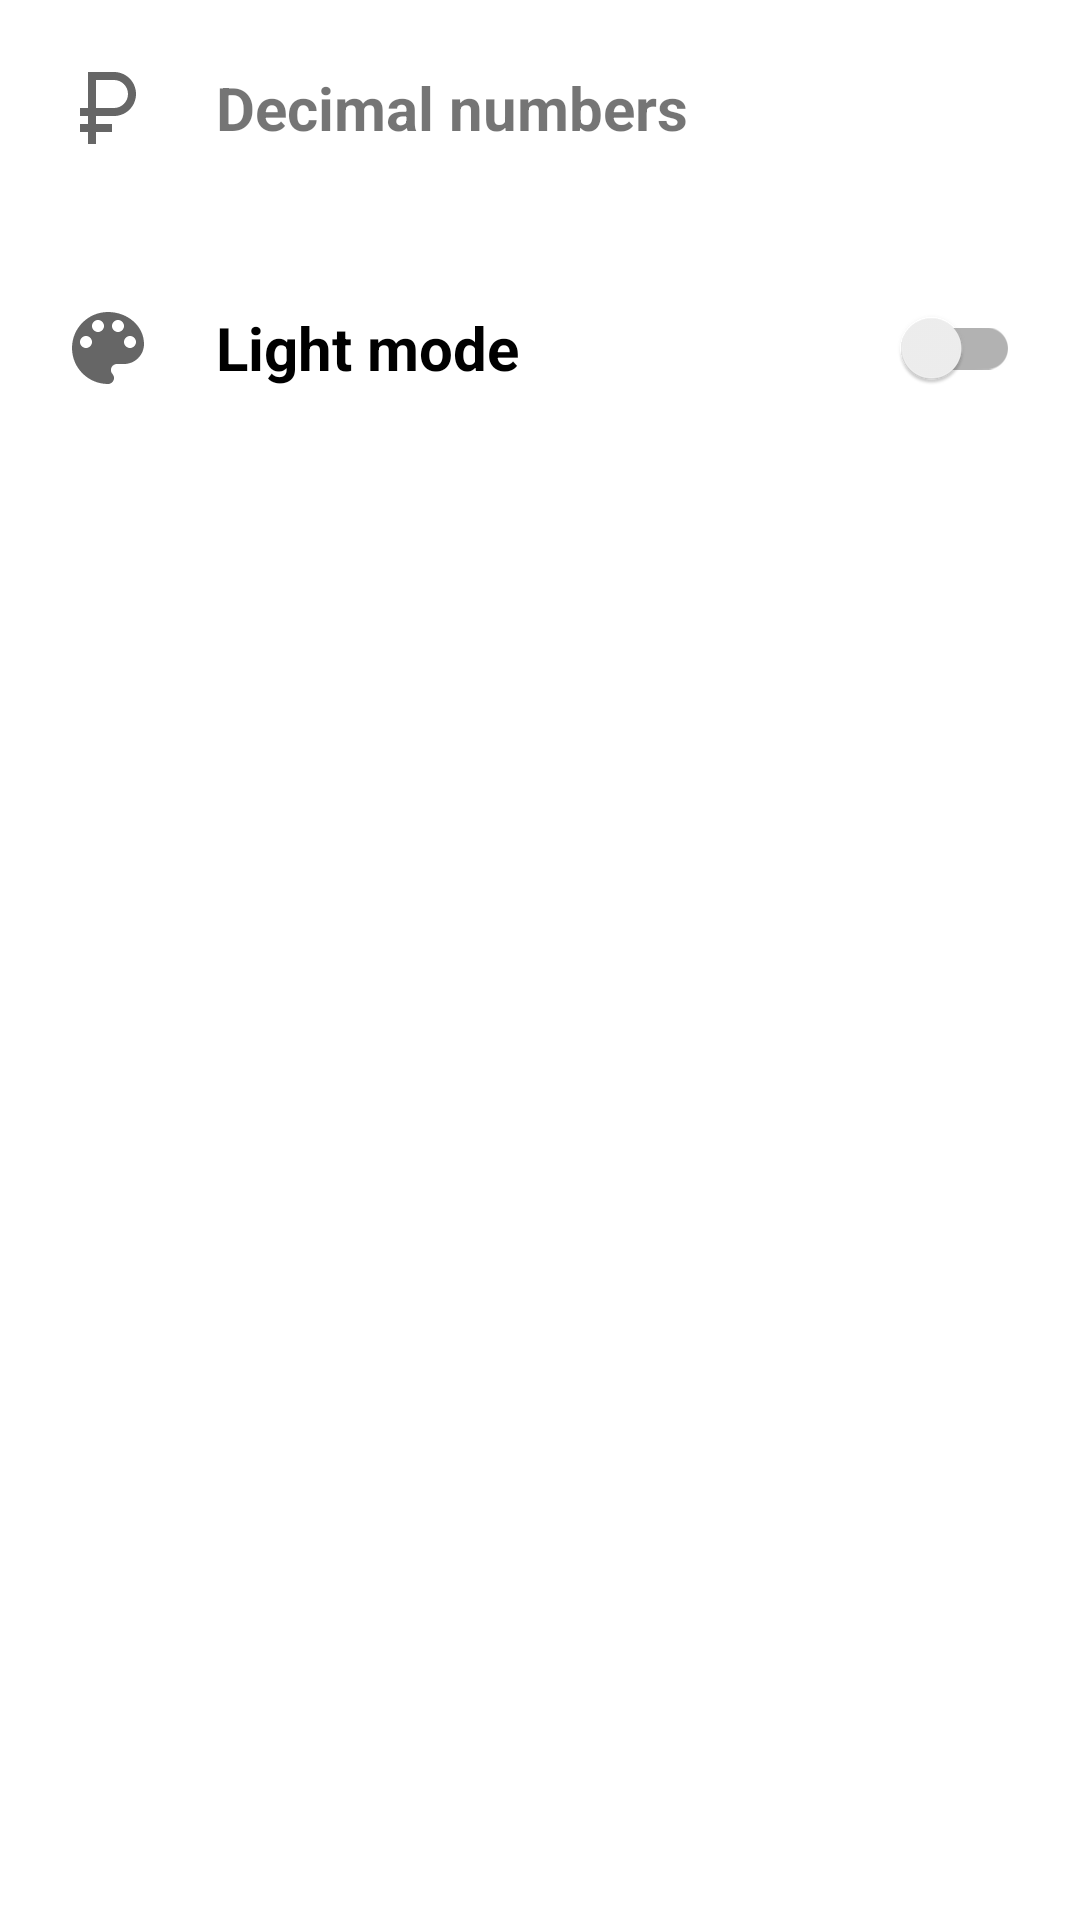

Where icons sit on this 1080×1920 app screen, as (x1, y1, x2, y2):
currency ruble: (80, 72, 136, 144)
